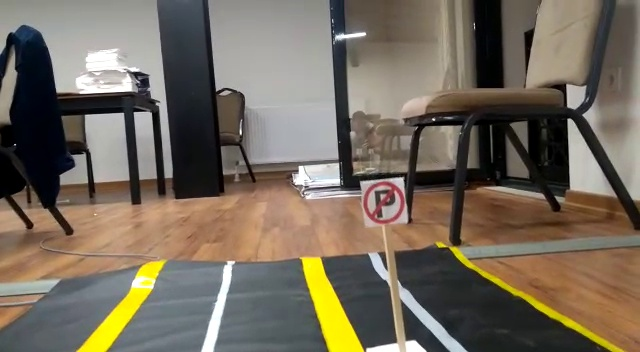park_yapilmaz: (363, 178, 404, 223)
